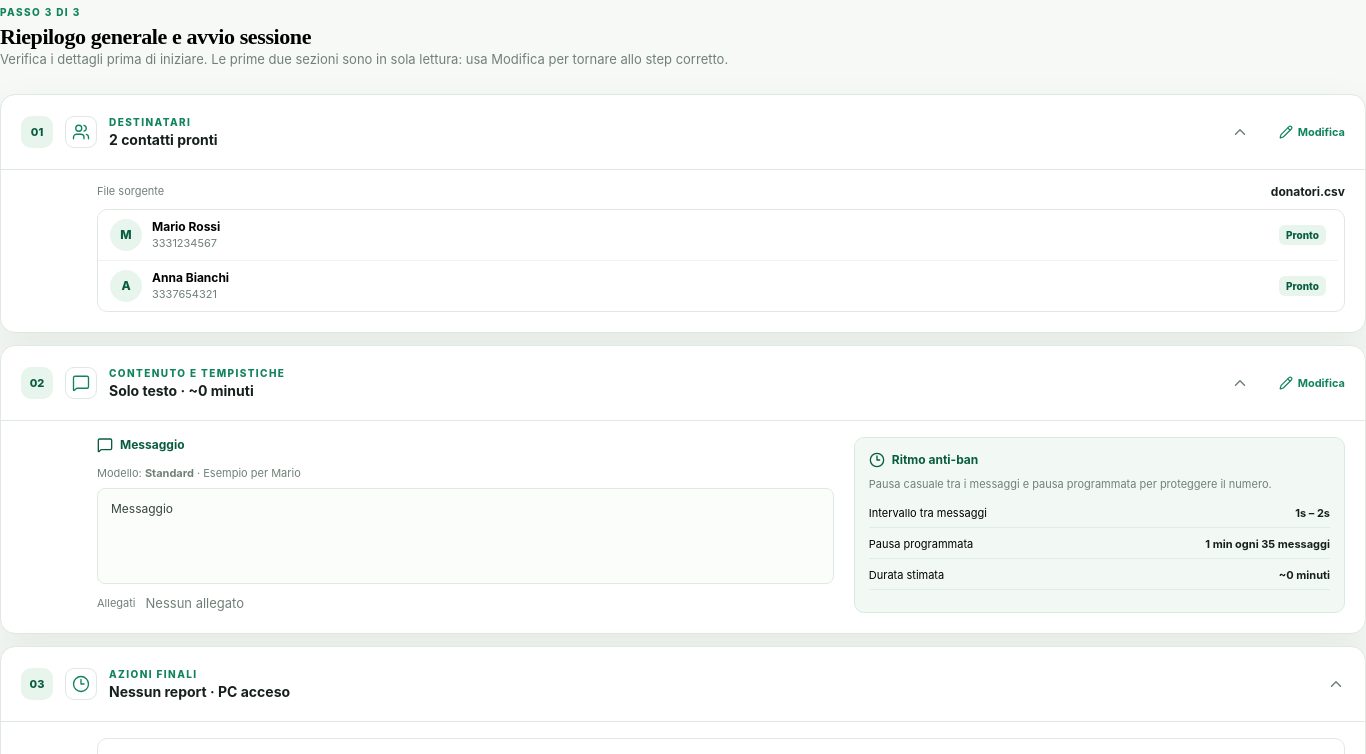
Test: StepSummary › renders three expanded read-only summary sections and collapses their bodies
The width and height of the screenshot is (1366, 754).
Expected: the text "Mario Rossi" is shown, left=152, top=219, right=220, bottom=234
Click the button "01 Destinatari 2 contatti pronti": (37, 132) left=1, top=94, right=1269, bottom=168
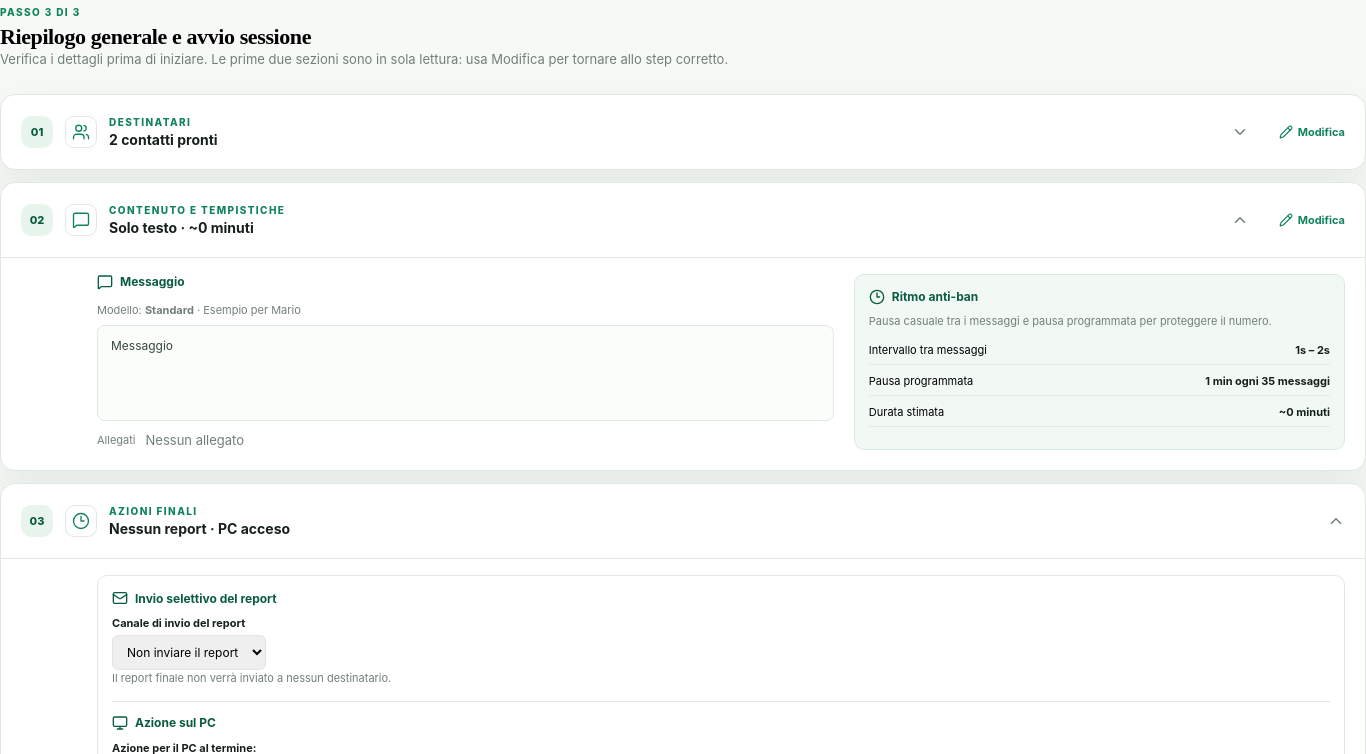
Expected: the text "Mario Rossi" is gone
